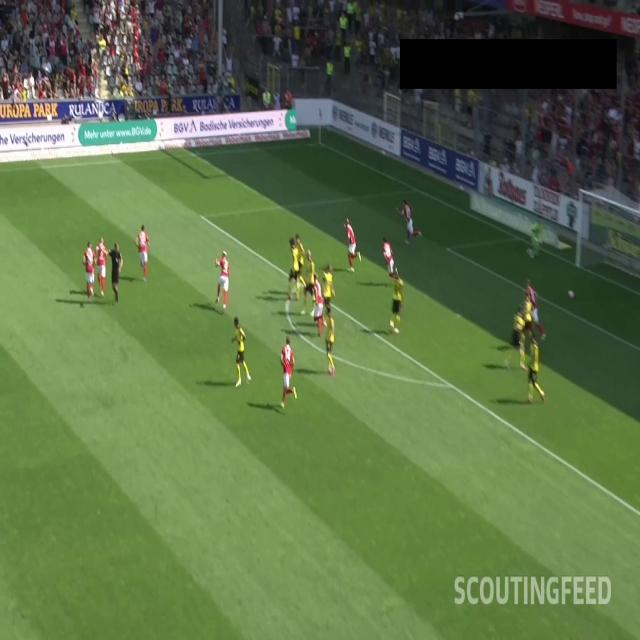player: (229, 313, 253, 386), (278, 332, 299, 410), (525, 331, 546, 406), (504, 308, 528, 372), (393, 196, 422, 246), (341, 214, 362, 275), (526, 281, 545, 344), (212, 246, 230, 312), (301, 243, 317, 317), (134, 222, 153, 283), (381, 232, 402, 284), (286, 231, 300, 304), (292, 232, 308, 295), (322, 260, 336, 332), (80, 240, 96, 299), (311, 266, 324, 338), (389, 269, 403, 334), (527, 212, 544, 264), (521, 294, 536, 350), (95, 236, 108, 296), (326, 304, 336, 377)
referee: (99, 242, 124, 307)
